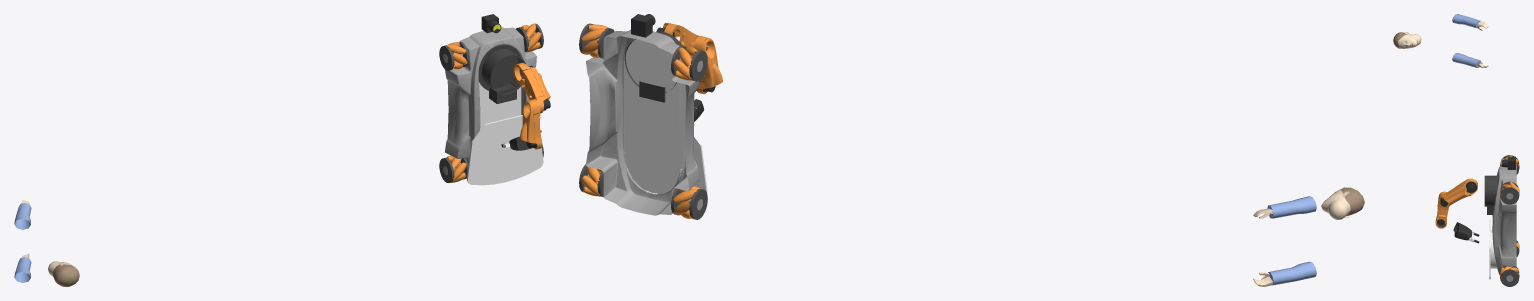
3 views of the same model, side by side, from view 1: azimuth 30°, elevation 25°; view 2: azimuth 150°, elevation 25°; view 3: azimuth 270°, elevation 25° (orthographic). The views are drawn at different scales.
Visible parts, largest first — view 1: ME_Platfo2_sub1, ME_Arm2_13_sub0, ME_Arm3_01_sub1_sub0_sub0, swedishWheel_fl, swedishWheel_rl, Bill_head, swedishWheel_fr, Bill_leftForearm, Bill_rightForearm; view 2: ME_Platfo2_sub1, swedishWheel_fl, swedishWheel_rl, Bill_head, ME_Arm3_01_sub1_sub0_sub0, Bill_rightForearm, Bill_leftForearm, swedishWheel_fr, swedishWheel_rr, ME_Arm2_13_sub0; view 3: ME_Platfo2_sub1, ME_Arm2_13_sub0, Bill_head, swedishWheel_fr, swedishWheel_rr, Bill_leftForearm, ME_Arm3_01_sub1_sub0_sub0, Bill_rightForearm, ME_Arm5_me_sub1, Hokuyo_URG_04LX_UG01_ROS_body, swedishWheel_fl.
Part boxes in pixels (x1=…): ME_Platfo2_sub1: x1=445, y1=27, x2=543, y2=185; ME_Arm2_13_sub0: x1=513, y1=62, x2=550, y2=113; ME_Arm3_01_sub1_sub0_sub0: x1=520, y1=99, x2=542, y2=149; swedishWheel_fl: x1=439, y1=42, x2=469, y2=70; swedishWheel_rl: x1=439, y1=155, x2=468, y2=182; Bill_head: x1=48, y1=261, x2=79, y2=286; swedishWheel_fr: x1=516, y1=23, x2=543, y2=52; Bill_leftForearm: x1=14, y1=200, x2=31, y2=229; Bill_rightForearm: x1=14, y1=253, x2=31, y2=282; ME_Platfo2_sub1: x1=586, y1=30, x2=707, y2=215; swedishWheel_fl: x1=671, y1=46, x2=707, y2=81; swedishWheel_rl: x1=671, y1=186, x2=707, y2=219; Bill_head: x1=1321, y1=187, x2=1364, y2=219; ME_Arm3_01_sub1_sub0_sub0: x1=693, y1=36, x2=722, y2=94; Bill_rightForearm: x1=1253, y1=261, x2=1316, y2=286; Bill_leftForearm: x1=1253, y1=196, x2=1316, y2=218; swedishWheel_fr: x1=579, y1=23, x2=614, y2=58; swedishWheel_rr: x1=579, y1=164, x2=603, y2=196; ME_Arm2_13_sub0: x1=656, y1=23, x2=699, y2=47; ME_Platfo2_sub1: x1=1484, y1=163, x2=1516, y2=279; ME_Arm2_13_sub0: x1=1438, y1=178, x2=1477, y2=206; Bill_head: x1=1393, y1=32, x2=1421, y2=48; swedishWheel_fr: x1=1500, y1=181, x2=1519, y2=204; swedishWheel_rr: x1=1500, y1=266, x2=1519, y2=286; Bill_leftForearm: x1=1452, y1=14, x2=1488, y2=30; ME_Arm3_01_sub1_sub0_sub0: x1=1435, y1=191, x2=1449, y2=228; Bill_rightForearm: x1=1452, y1=53, x2=1488, y2=67; ME_Arm5_me_sub1: x1=1453, y1=222, x2=1471, y2=240; Hokuyo_URG_04LX_UG01_ROS_body: x1=1502, y1=156, x2=1515, y2=169; swedishWheel_fl: x1=1500, y1=155, x2=1519, y2=174.
Bounding box in the file's own units: 2.37 × 0.63 × 0.6359.
